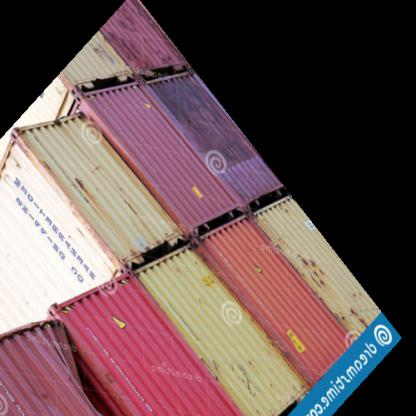Damage: (57, 346, 127, 405)
